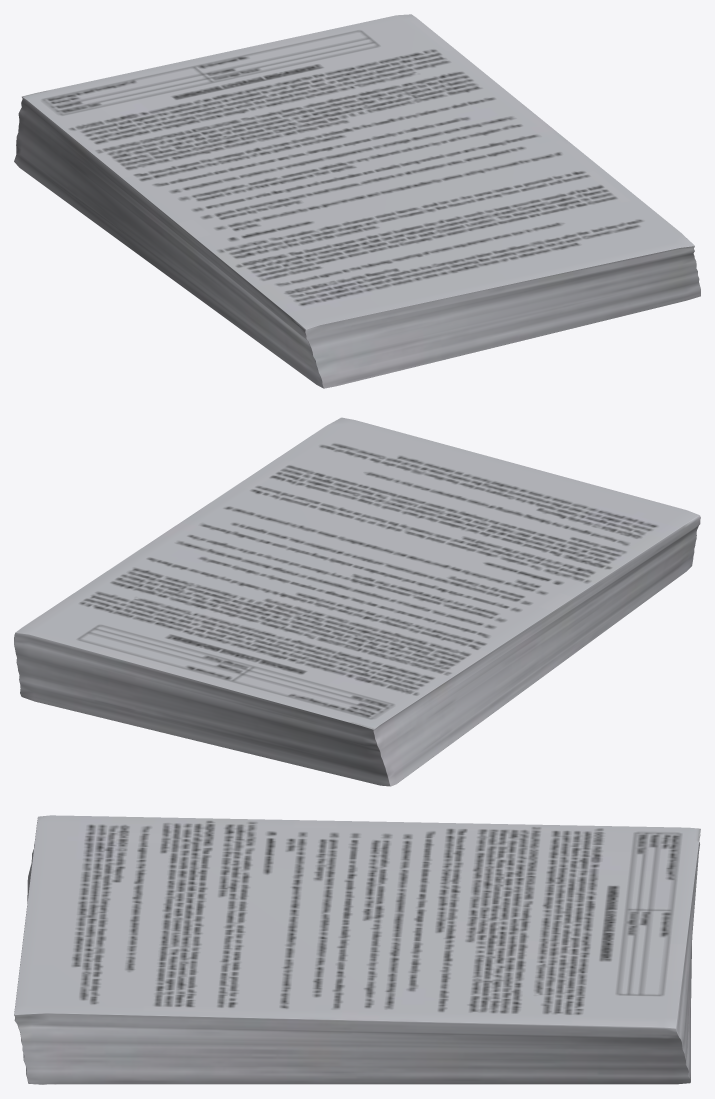
The model's file is paperstack.glb.
3 views of the same model, one above another, from view 1: azimuth 30°, elevation 25°; view 2: azimuth 150°, elevation 25°; view 3: azimuth 270°, elevation 25° (orthographic). The views are drawn at different scales.
Parts seen in each view (by area): view 1: opaque__paper__paperstack_a, trans__decal__paperstack_a; view 2: opaque__paper__paperstack_a, trans__decal__paperstack_a; view 3: opaque__paper__paperstack_a, trans__decal__paperstack_a.
Boxes of the visible parts, box(x1,y1,x2,y2) form: opaque__paper__paperstack_a: box(14, 14, 700, 388); trans__decal__paperstack_a: box(22, 31, 642, 305); opaque__paper__paperstack_a: box(14, 417, 700, 786); trans__decal__paperstack_a: box(78, 444, 657, 728); opaque__paper__paperstack_a: box(14, 815, 700, 1084); trans__decal__paperstack_a: box(72, 821, 700, 1014).
Bounding box in the file's own units: 0.2247 × 0.0326 × 0.3081.
Materials: 2 (2 with a texture image).
